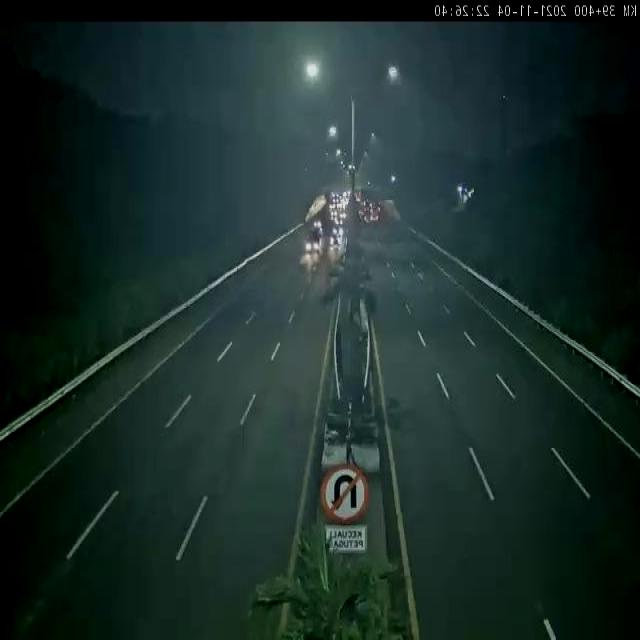Car: (298, 229, 323, 260)
